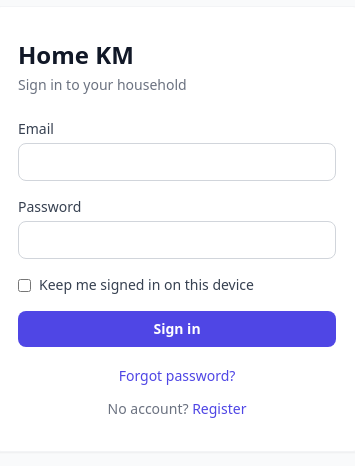
Test: LoginPage › shows API error message on failed login
The image size is (355, 466).
Type "a@b.com" into the field named "email" at (177, 162), box 18,143 -> 336,181
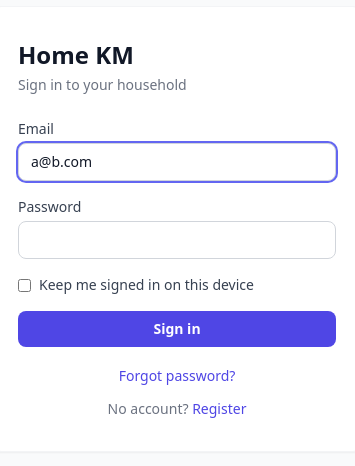
Type "wrongpass" into the password field named "password" at (177, 240), box 18,221 -> 336,259
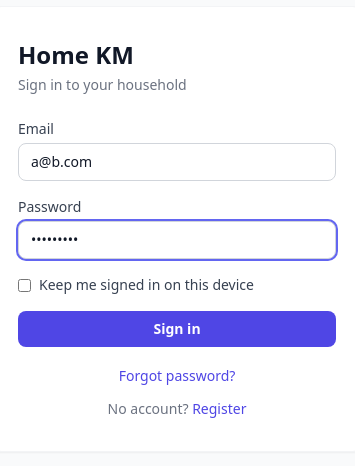
Click the button "Sign in" at (177, 329), box 18,311 -> 336,347
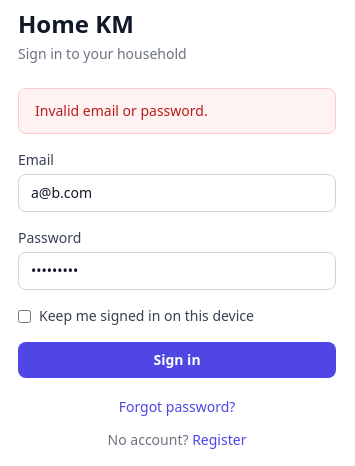
Expected: the text "Invalid email or password." is shown, 18,88 -> 336,134
